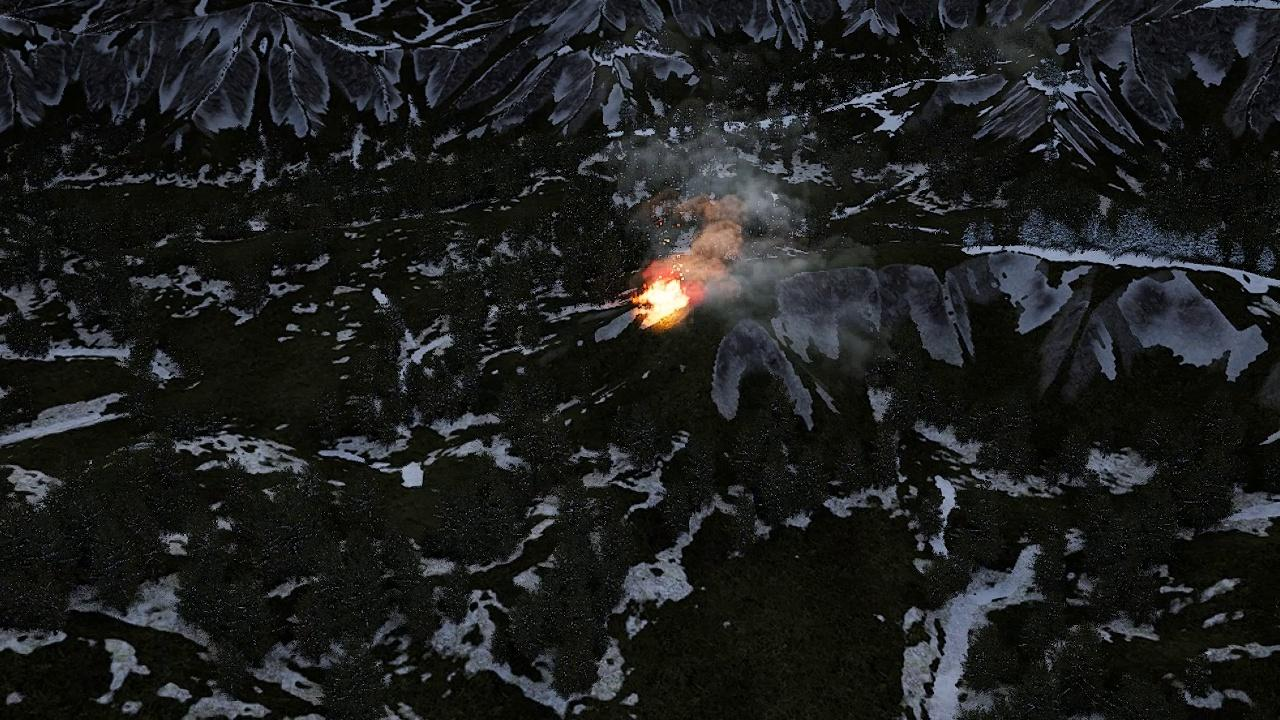fire: (633, 277, 690, 328)
smoke: (624, 114, 890, 366)
